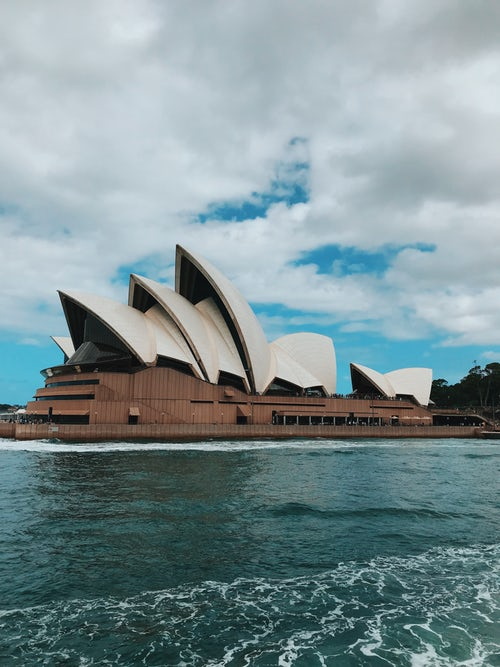opera house: (29, 253, 463, 443)
